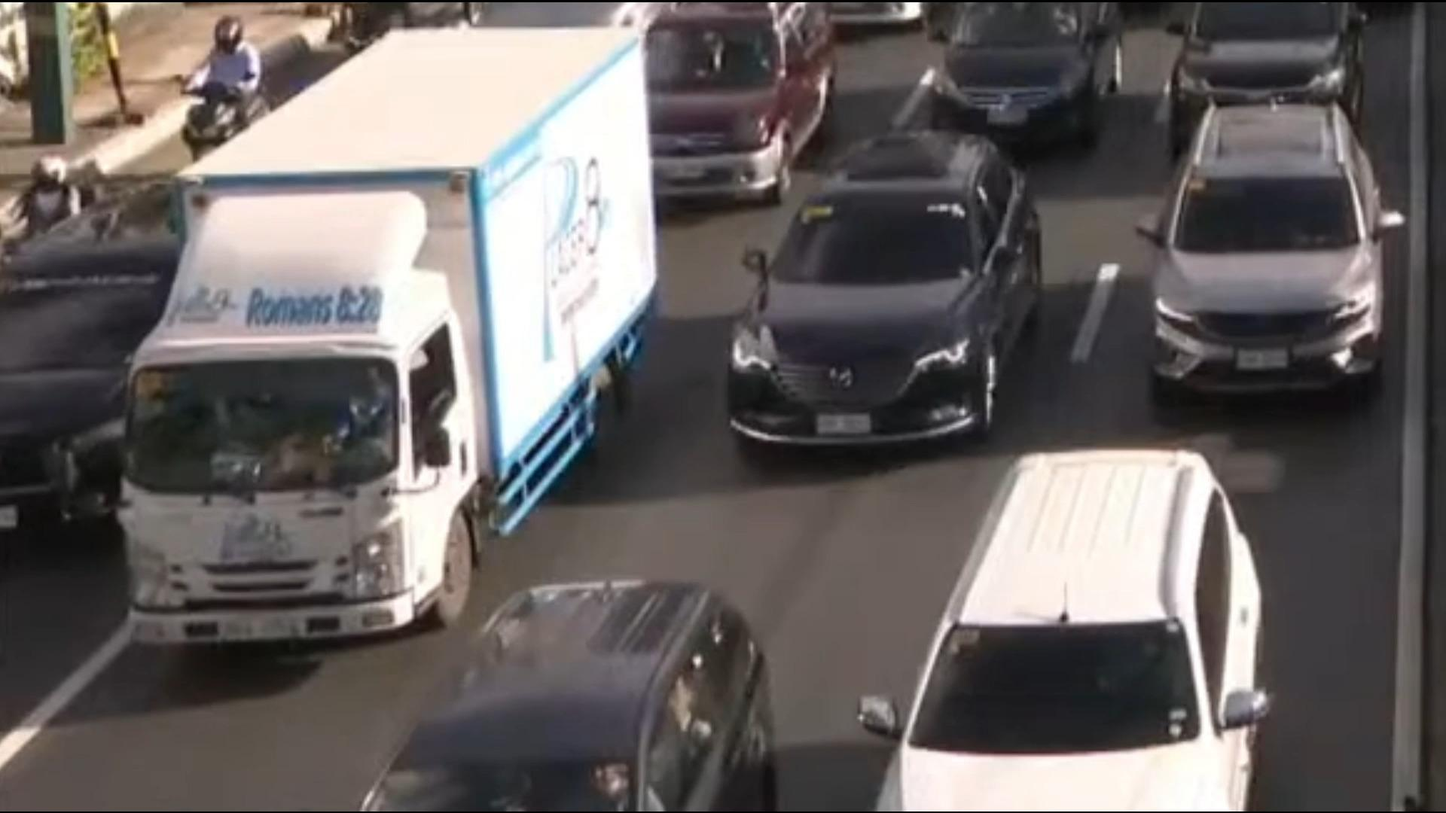Motorcycle: (176, 14, 292, 173), (0, 140, 83, 237)
SUV: (846, 435, 1300, 813), (691, 134, 1081, 485), (349, 561, 818, 813), (0, 161, 268, 563), (1136, 102, 1427, 428), (626, 0, 855, 215), (1158, 0, 1382, 155), (930, 0, 1143, 142)
Truck: (93, 14, 701, 666)
